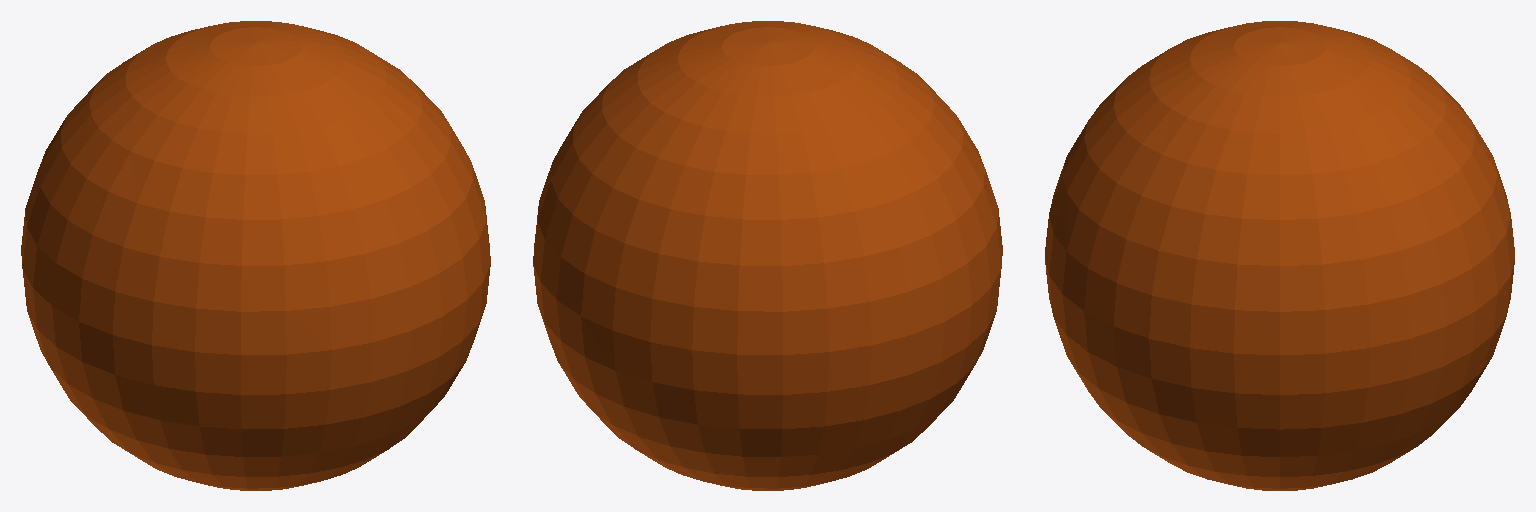
Rendered from sphereOrange.obj.
The picture shows the model from 3 angles: view 1: azimuth 30°, elevation 25°; view 2: azimuth 150°, elevation 25°; view 3: azimuth 270°, elevation 25°; orthographic projection.
Visible parts, largest first — view 1: Sphere01; view 2: Sphere01; view 3: Sphere01.
Part boxes in pixels (bbox=[...]): Sphere01: bbox=[21, 21, 490, 490]; Sphere01: bbox=[533, 21, 1002, 490]; Sphere01: bbox=[1045, 21, 1514, 490].
Size of the model in its own units: 5.53 by 5.53 by 5.53.